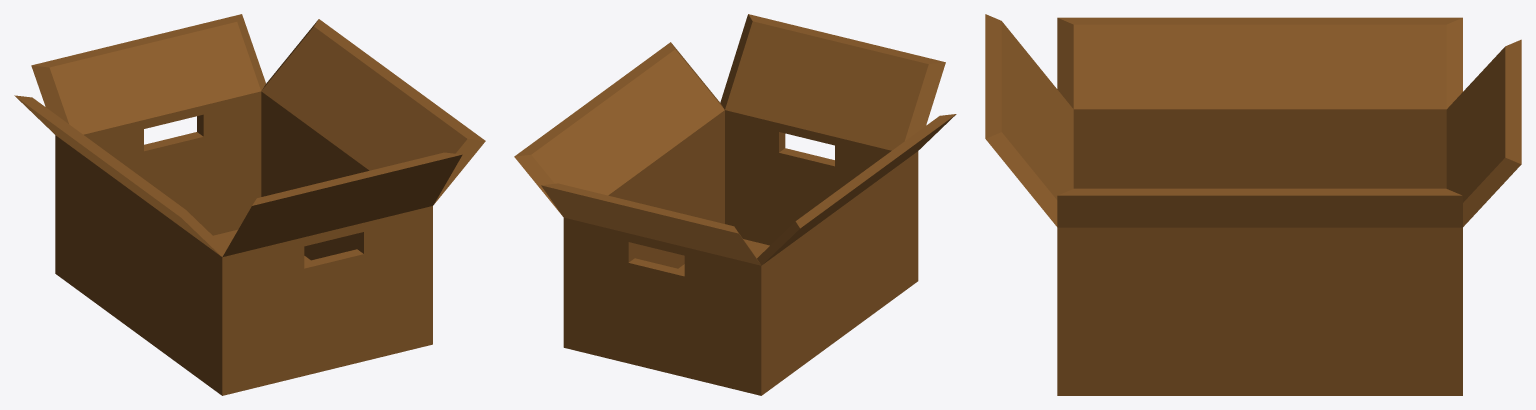
File: catbox(Level3).fbx
3 renders of one model, left to right at view 1: azimuth 30°, elevation 25°; view 2: azimuth 150°, elevation 25°; view 3: azimuth 270°, elevation 25°, orthographic. The views are drawn at different scales.
Parts seen in each view (by area): view 1: Box001; view 2: Box001; view 3: Box001.
Part boxes in pixels (x1,y1,x2,y2): Box001: [14, 14, 485, 395]; Box001: [514, 14, 956, 395]; Box001: [985, 14, 1521, 395].
Size of the model in its own units: 70.75 by 46.94 by 88.73.
